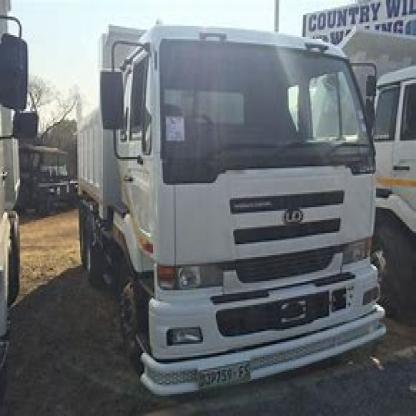dump_truck: (61, 19, 389, 398)
